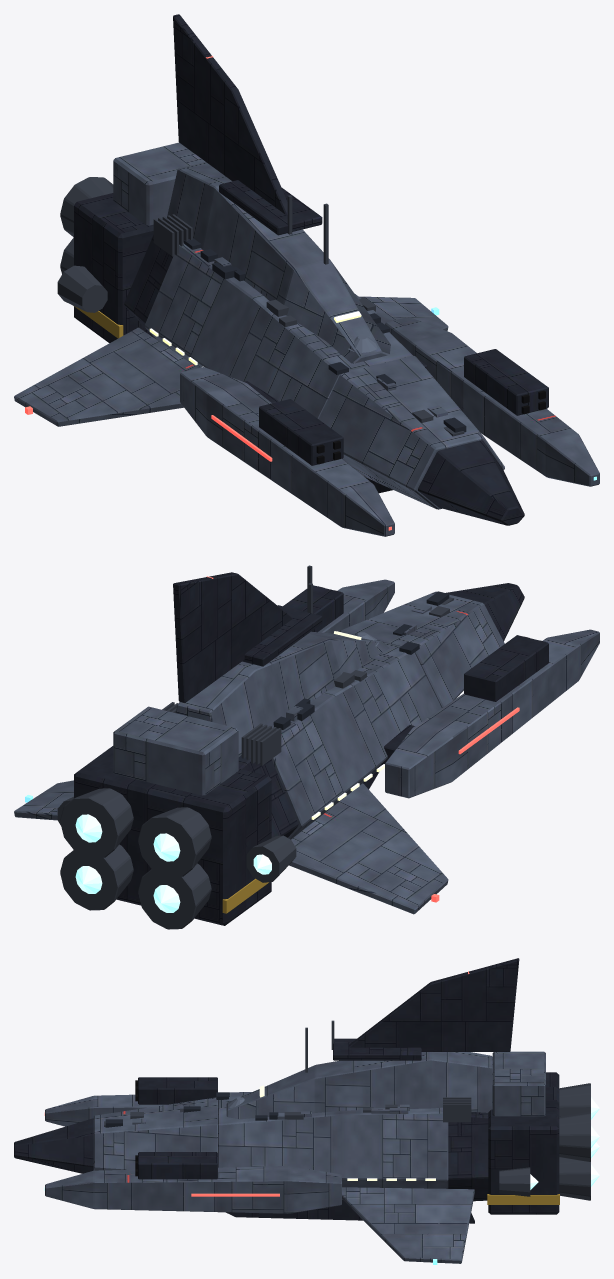
File: frigate.glb
3 views of the same model, one above another, from view 1: azimuth 30°, elevation 25°; view 2: azimuth 150°, elevation 25°; view 3: azimuth 270°, elevation 25° (orthographic). The views are drawn at different scales.
Parts seen in each view (by area): view 1: frigate; view 2: frigate; view 3: frigate.
Part boxes in pixels (box(x1,y1,x2,y2)): frigate: box(14, 14, 599, 536); frigate: box(14, 565, 599, 929); frigate: box(14, 958, 599, 1264).
Bounding box in the file's own units: 3.13 × 2.56 × 5.16.
3 materials, 3 textured.
